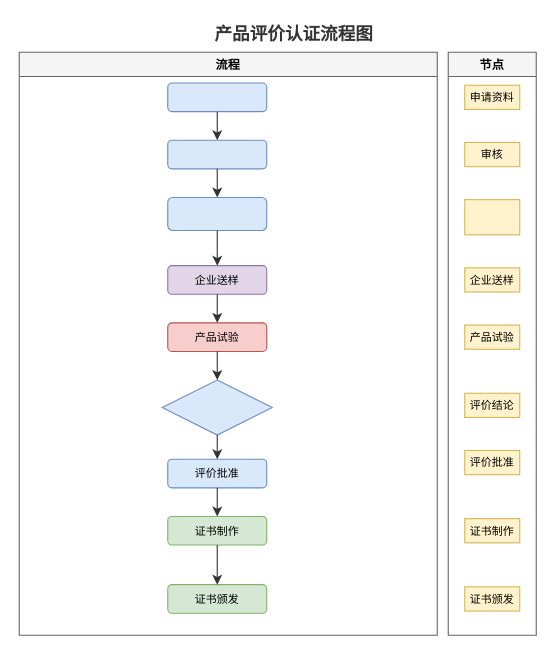
Some shapes in this 556 by 655 pixel diagram are drawn without their labels. The shapes that lost their labels are listed below. From the top down, each one's centre as x and y in pixels, then its label:
the point at 217,97: 提交申请资料
the point at 217,154: 资料审核
the point at 217,213: 制定评价方案
the point at 492,217: 制定评价 方案
the point at 216,407: 出具评价结论
